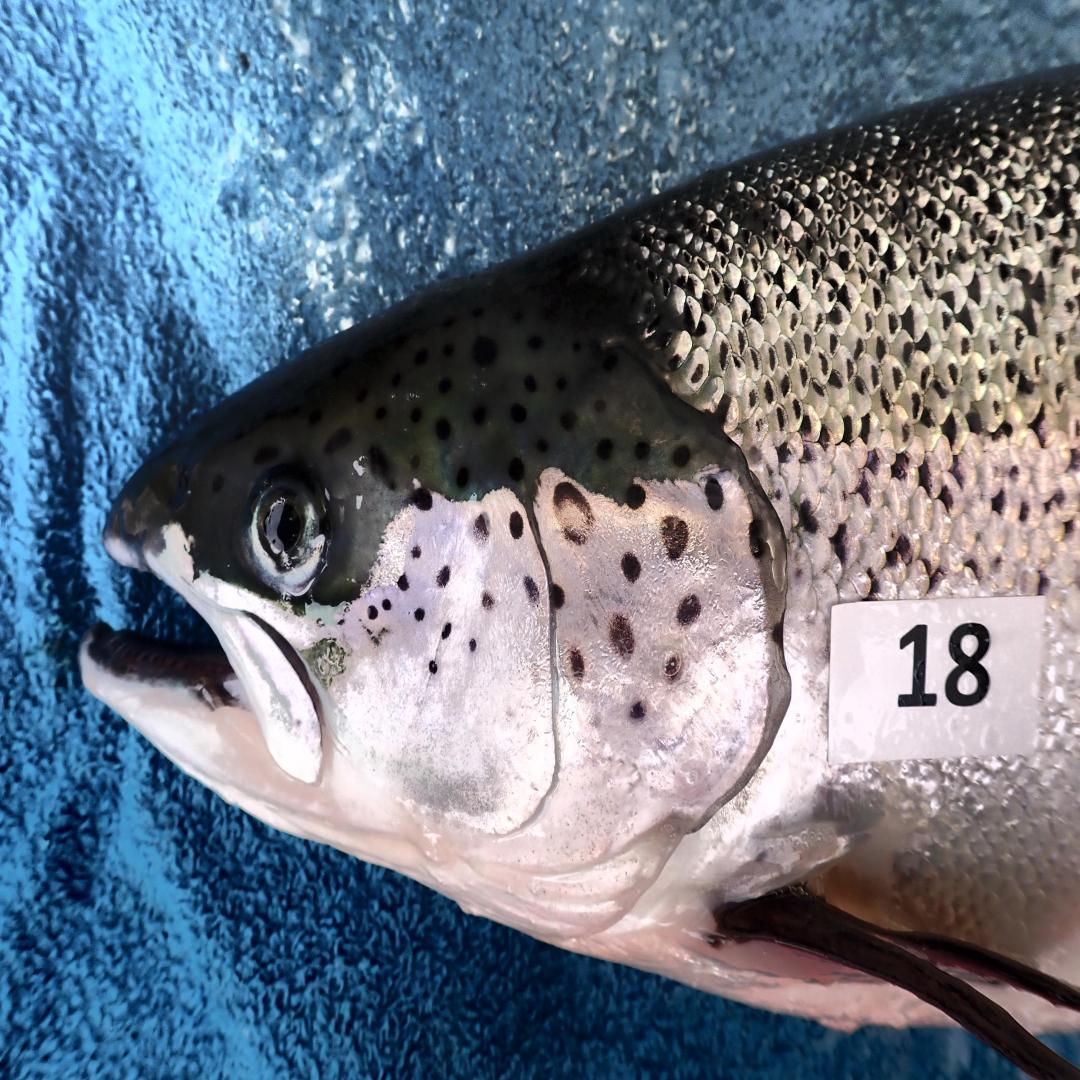spot: (553, 481, 595, 546), (660, 515, 688, 560), (610, 613, 635, 658), (677, 593, 702, 627), (705, 475, 724, 512), (749, 519, 765, 559), (664, 652, 683, 683), (620, 554, 641, 582), (472, 512, 489, 543), (411, 487, 432, 512), (523, 577, 540, 605), (626, 484, 645, 509), (570, 647, 584, 678), (508, 512, 523, 537), (771, 621, 784, 648), (553, 585, 565, 610), (631, 700, 645, 720), (437, 565, 449, 588), (481, 593, 494, 610), (397, 574, 409, 591), (441, 622, 451, 638), (367, 605, 378, 619), (413, 608, 424, 622), (428, 661, 439, 675), (468, 638, 477, 652), (411, 546, 421, 558), (382, 599, 392, 610)
